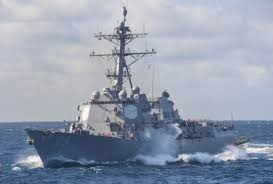tau_muctieu: (23, 32, 249, 162)
